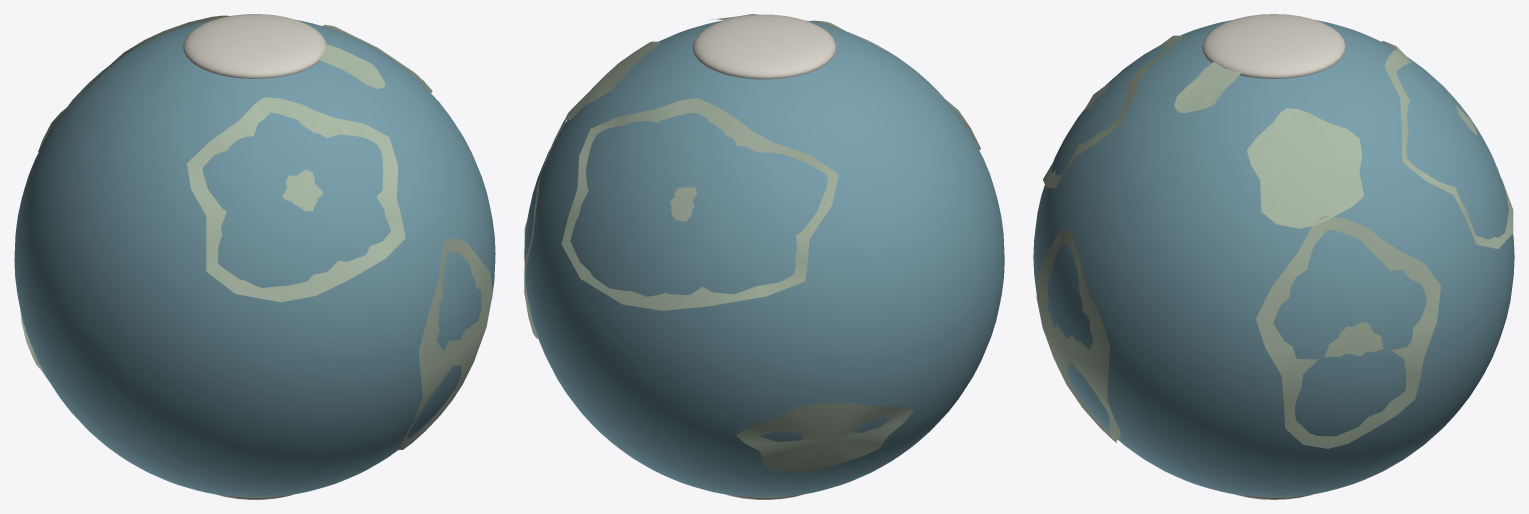
Rendered from planet.glb.
3 renders of one model, left to right at view 1: azimuth 30°, elevation 25°; view 2: azimuth 150°, elevation 25°; view 3: azimuth 270°, elevation 25°, orthographic.
Parts seen in each view (by area): view 1: StylizedPlanet; view 2: StylizedPlanet; view 3: StylizedPlanet.
Boxes of the visible parts, left/top/right/bottom form: StylizedPlanet: left=14, top=14, right=495, bottom=499; StylizedPlanet: left=524, top=14, right=1004, bottom=499; StylizedPlanet: left=1033, top=14, right=1514, bottom=499.
Bounding box in the file's own units: 2.62 × 2.66 × 2.6.
